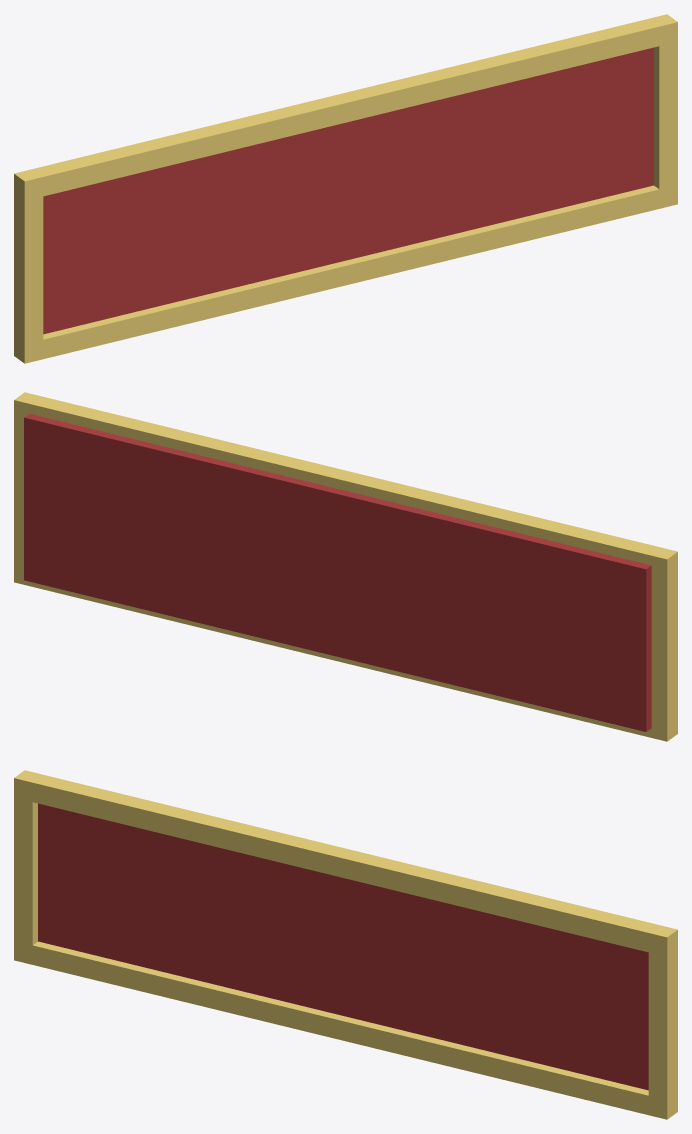
The model's file is sign.fbx.
The picture shows the model from 3 angles, top to bottom: view 1: azimuth 30°, elevation 25°; view 2: azimuth 150°, elevation 25°; view 3: azimuth 330°, elevation 25°; orthographic projection.
Visible parts, largest first — view 1: sign; view 2: sign; view 3: sign.
Boxes of the visible parts, <box> form: sign: <box>14,14,677,363</box>; sign: <box>14,392,677,741</box>; sign: <box>14,770,677,1119</box>.
Size of the model in its own units: 2.1 by 0.56 by 0.09.
